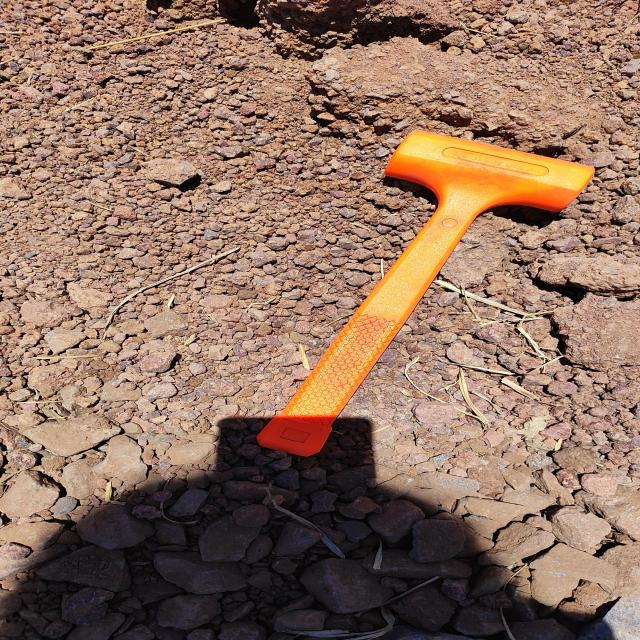Orange_hammer: (254, 128, 596, 457)
